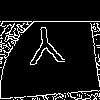Y: (25, 25, 67, 76)
